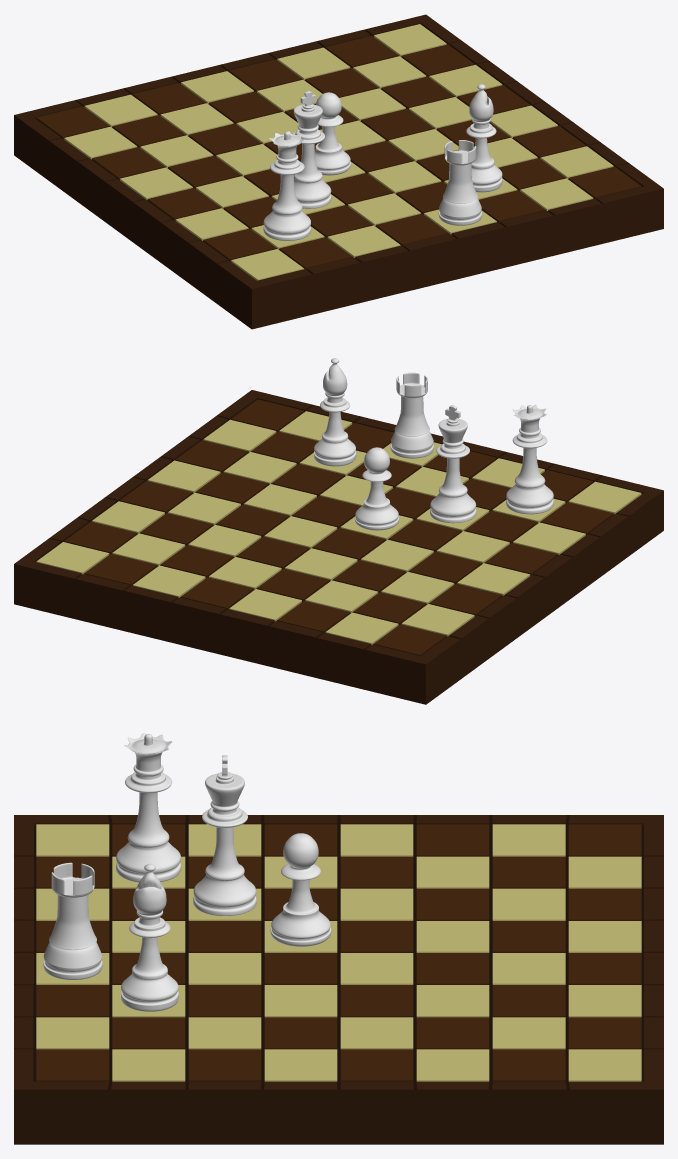
The model's file is ChessPlate.fbx.
The picture shows the model from 3 angles, top to bottom: view 1: azimuth 30°, elevation 25°; view 2: azimuth 150°, elevation 25°; view 3: azimuth 270°, elevation 25°; orthographic projection. The views are drawn at different scales.
Parts seen in each view (by area): view 1: Cube, Plane.003, Plane.004, Plane.002, Plane.001, Plane; view 2: Cube, Plane.003, Plane.004, Plane.002, Plane.001, Plane; view 3: Cube, Plane.004, Plane.003, Plane.002, Plane.001, Plane.
Part boxes in pixels (left/top/right/bottom): Cube: left=14, top=14, right=663, bottom=329; Plane.003: left=263, top=131, right=311, bottom=240; Plane.004: left=292, top=91, right=331, bottom=208; Plane.002: left=438, top=140, right=481, bottom=225; Plane.001: left=466, top=84, right=502, bottom=192; Plane: left=314, top=92, right=350, bottom=175; Cube: left=14, top=390, right=663, bottom=704; Plane.003: left=506, top=404, right=553, bottom=514; Plane.004: left=430, top=405, right=476, bottom=523; Plane.002: left=390, top=372, right=433, bottom=458; Plane.001: left=313, top=358, right=356, bottom=466; Plane: left=354, top=447, right=399, bottom=530; Cube: left=14, top=815, right=663, bottom=1144; Plane.004: left=193, top=755, right=256, bottom=916; Plane.003: left=116, top=733, right=181, bottom=882; Plane.002: left=43, top=862, right=102, bottom=979; Plane.001: left=121, top=863, right=178, bottom=1011; Plane: left=270, top=833, right=331, bottom=946.
Bounding box in the file's own units: 214 × 73.67 × 214.
